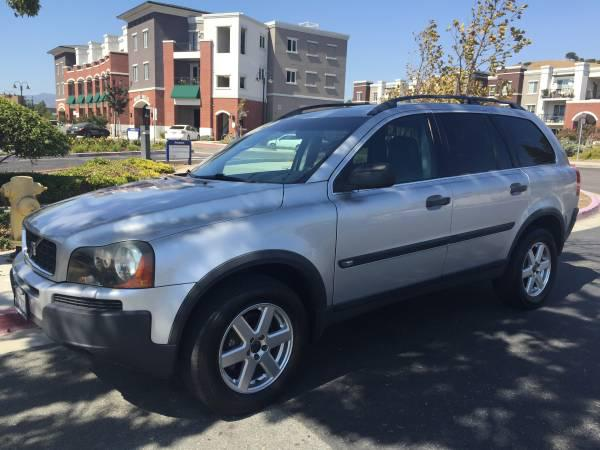volvo: (12, 68, 600, 428)
